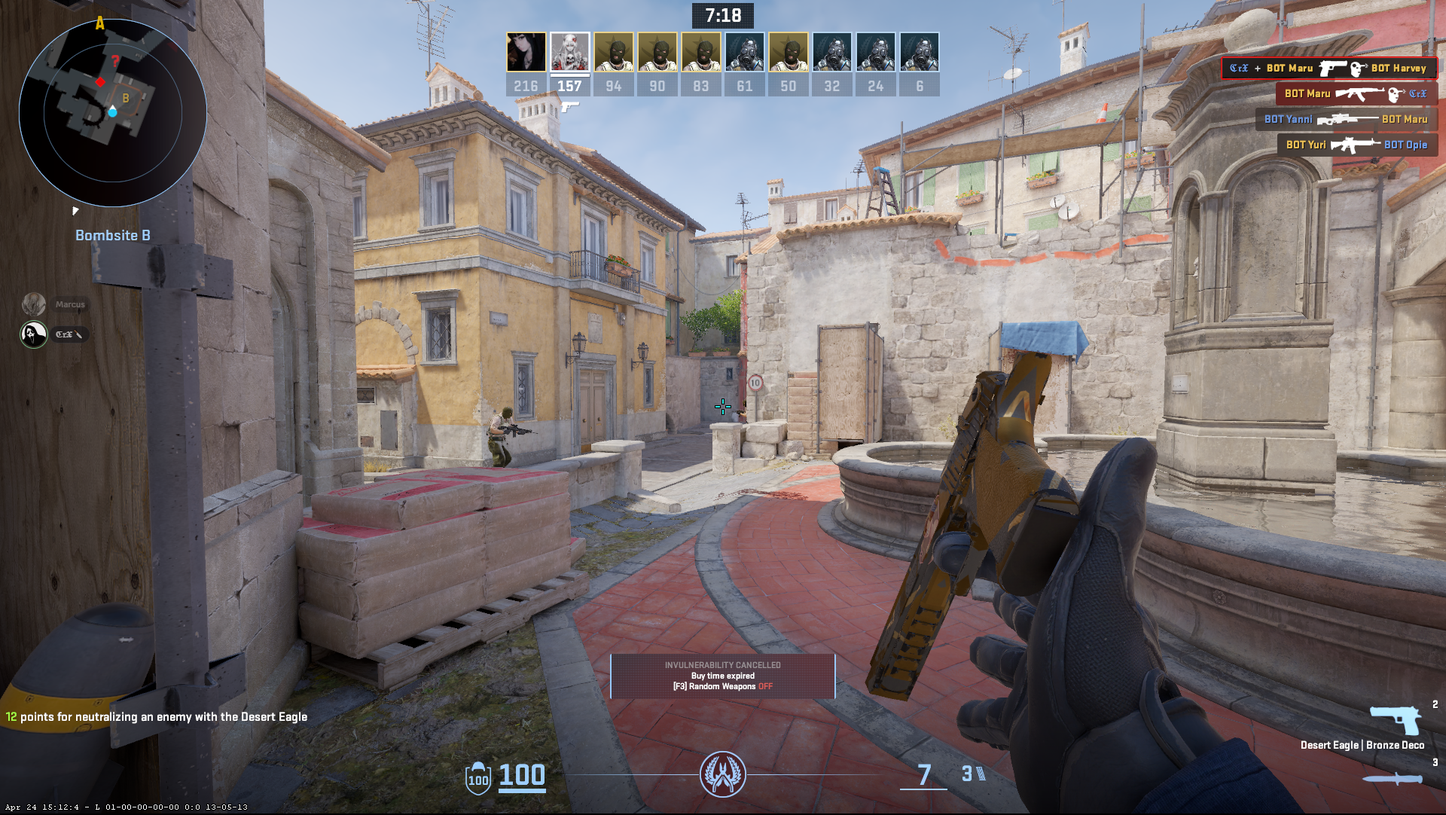T: (485, 400, 527, 475), (725, 397, 749, 431)
